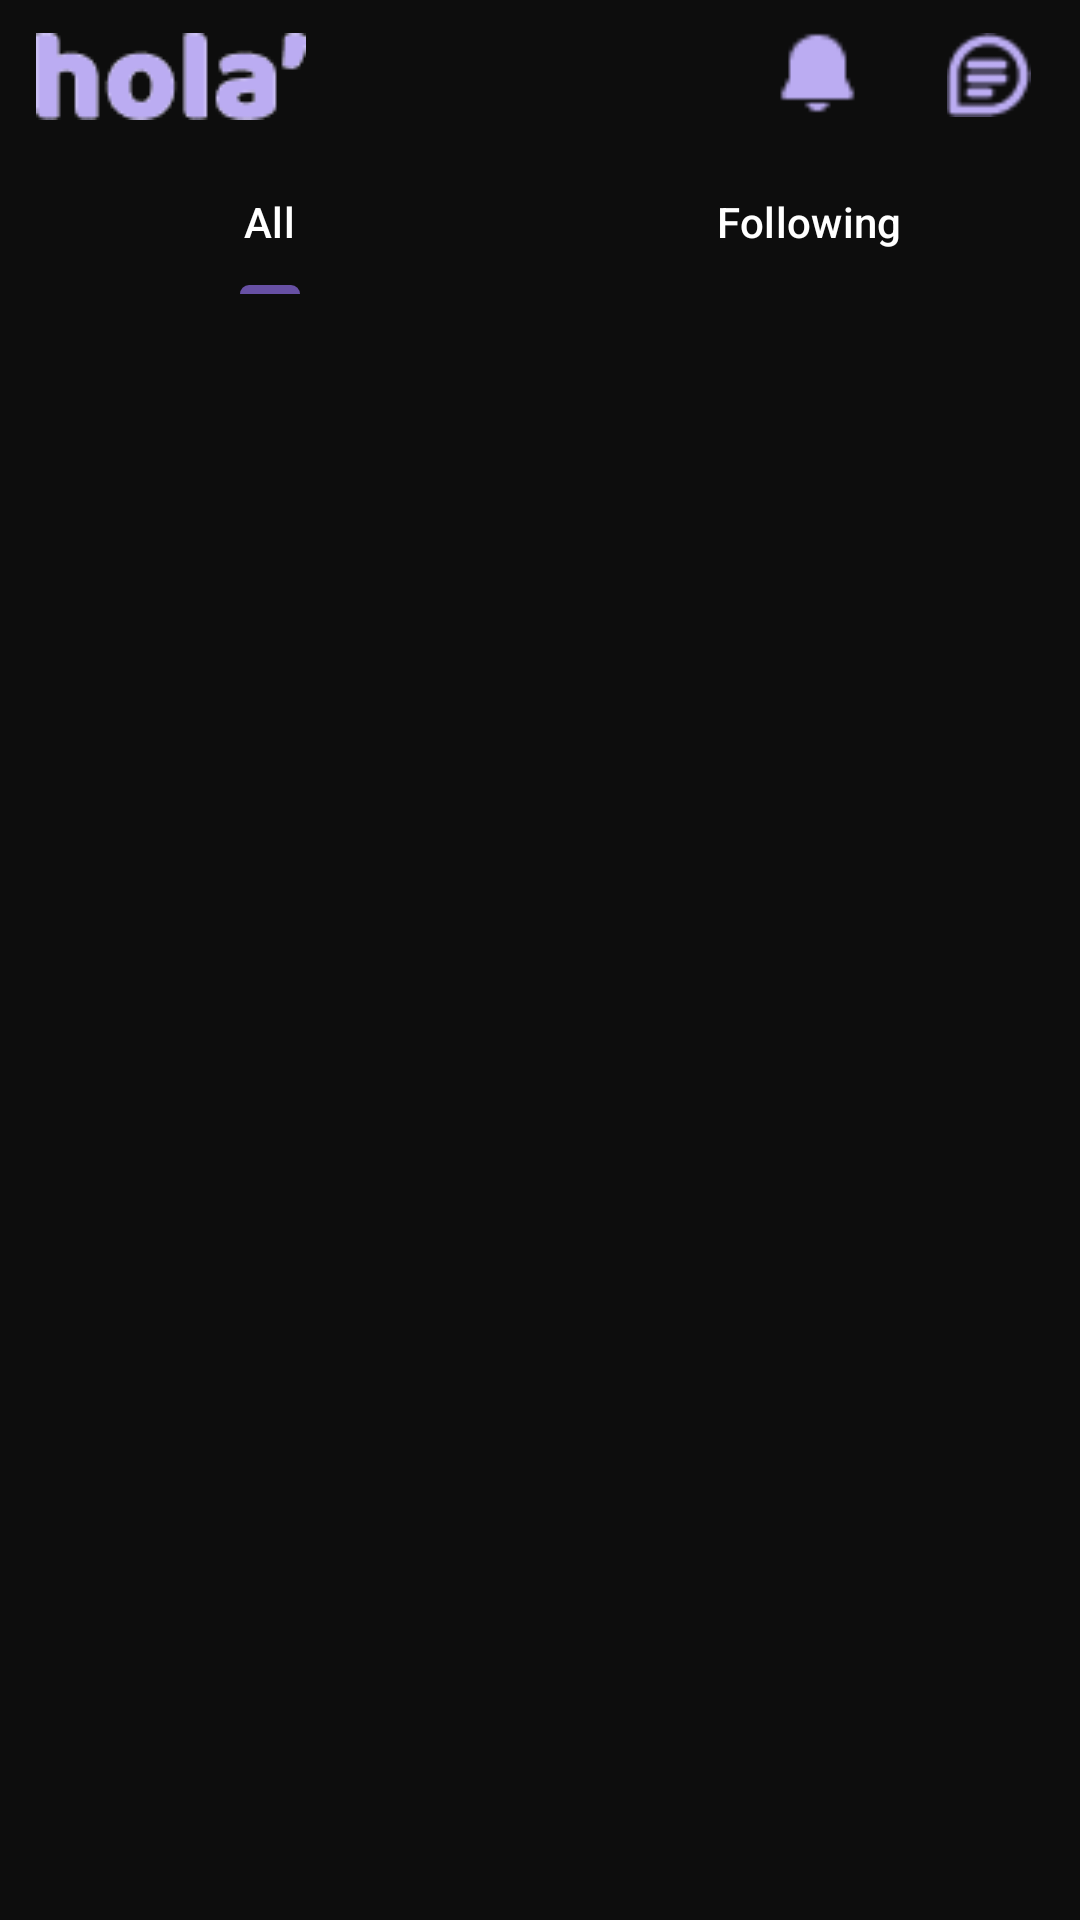

Locate icon controls on the screen. Image size 1080*1920, boxes as box(x1, y1, x2, y2).
message: box(947, 33, 1031, 117)
notification: box(780, 33, 855, 113)
